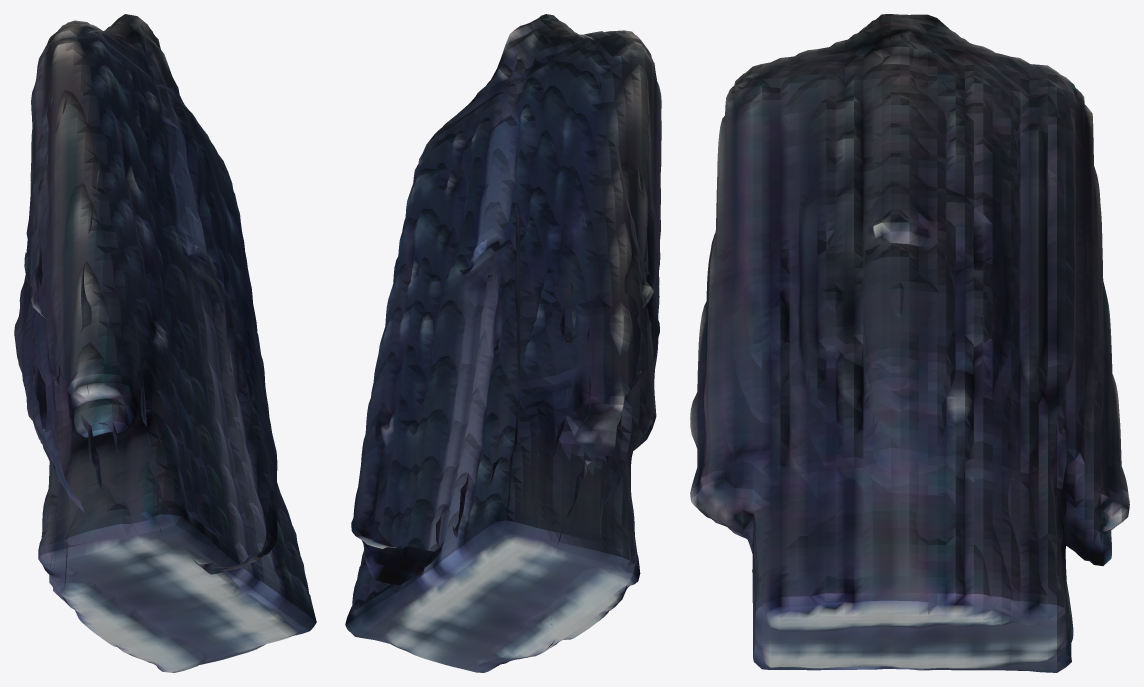
The model's file is lnPglpYAhuumNm2wHhtA-draft.glb.
3 renders of one model, left to right at view 1: azimuth 30°, elevation 25°; view 2: azimuth 150°, elevation 25°; view 3: azimuth 270°, elevation 25°, orthographic. The views are drawn at different scales.
Parts seen in each view (by area): view 1: world; view 2: world; view 3: world.
Part boxes in pixels (x1,y1,x2,y2): world: (14,14,316,672); world: (345,14,661,672); world: (690,14,1129,672).
Size of the model in its own units: 0.3987 by 1.01 by 0.6532.
